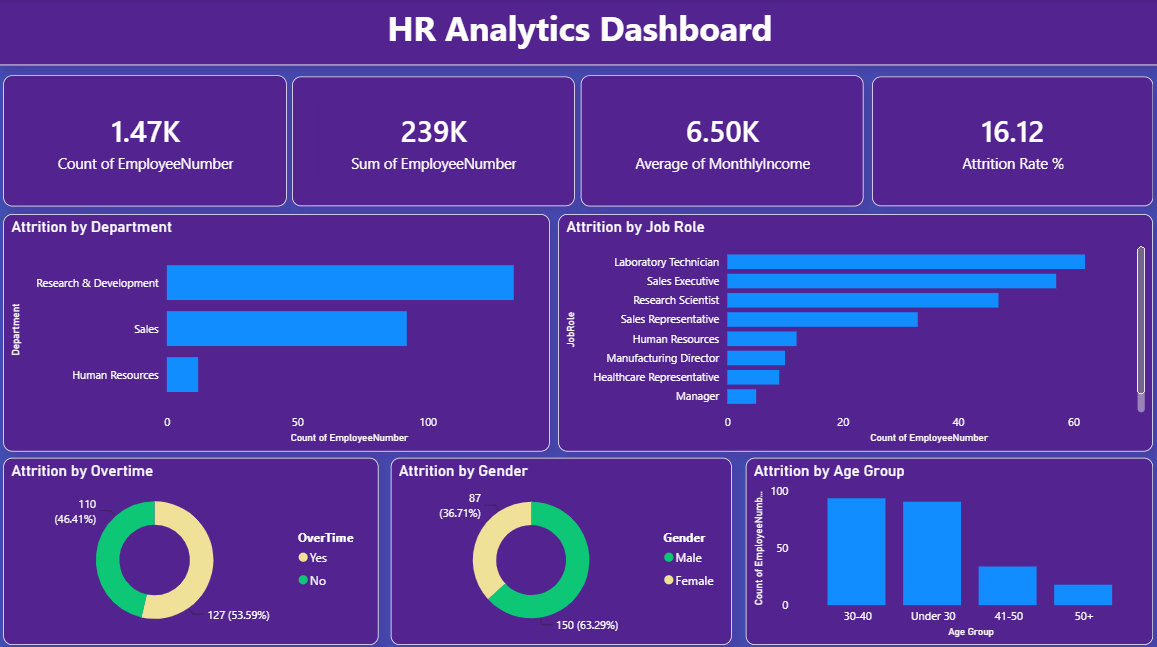

This screenshot's page, from the dashboard's own definition file:
{"tool":"powerbi","page":{"name":"Page 1","canvas":[1280,720],"ordinal":0},"visuals":[{"type":"cardVisual","title":"Total Employees","fields":{"Data":["CountNonNull(HR_Employee_Attrition_Cleaned.EmployeeNumber)"]},"box":[6.9,83.7,311.5,144.1],"z":0},{"type":"cardVisual","fields":{"Data":["Sum(HR_Employee_Attrition_Cleaned.EmployeeNumber)"]},"box":[323.8,85.1,310.1,142.7],"z":1000},{"type":"cardVisual","fields":{"Data":["Avg(HR_Employee_Attrition_Cleaned.MonthlyIncome)"]},"box":[640.8,83.7,310.1,144.1],"z":2000},{"type":"cardVisual","fields":{"Data":["HR_Employee_Attrition_Cleaned.Attrition Rate %"]},"box":[960.6,85.1,308.7,142.7],"z":3000},{"type":"clusteredBarChart","title":"Attrition by Department","fields":{"Category":["HR_Employee_Attrition_Cleaned.Department"],"Y":["CountNonNull(HR_Employee_Attrition_Cleaned.EmployeeNumber)"]},"box":[6.9,236,599.7,260.7],"z":3001},{"type":"clusteredBarChart","title":"Attrition by Job Role","fields":{"Category":["HR_Employee_Attrition_Cleaned.JobRole"],"Y":["CountNonNull(HR_Employee_Attrition_Cleaned.EmployeeNumber)"]},"box":[616.1,236,653.2,260.7],"z":3002},{"type":"donutChart","title":"Attrition by Overtime","fields":{"Category":["HR_Employee_Attrition_Cleaned.OverTime"],"Y":["CountNonNull(HR_Employee_Attrition_Cleaned.EmployeeNumber)"]},"box":[6.9,503.6,411.7,205.8],"z":3003},{"type":"clusteredColumnChart","title":"Attrition by Age Group","fields":{"Category":["HR_Employee_Attrition_Cleaned.Age Group"],"Y":["CountNonNull(HR_Employee_Attrition_Cleaned.EmployeeNumber)"]},"box":[822,503.6,447.3,205.8],"z":3004},{"type":"donutChart","title":"Attrition by Gender","fields":{"Category":["HR_Employee_Attrition_Cleaned.Gender"],"Y":["CountNonNull(HR_Employee_Attrition_Cleaned.EmployeeNumber)"]},"box":[432.2,503.6,374.6,205.8],"z":3005},{"type":"textbox","box":[0,0,1280.3,72.7],"z":3006}]}

Visuals, with their boxes in screenshot pixels (x1, y1, x2, y2), scaled from the page's 1280x720 canvas onto the 1157x647 screenshot:
"Total Employees" cardVisual: 6,75,288,205
cardVisual - Sum(HR_Employee_Attrition_Cleaned.EmployeeNumber): 293,76,573,205
cardVisual - Avg(HR_Employee_Attrition_Cleaned.MonthlyIncome): 579,75,860,205
cardVisual - HR_Employee_Attrition_Cleaned.Attrition Rate %: 868,76,1147,205
"Attrition by Department" clusteredBarChart: 6,212,548,446
"Attrition by Job Role" clusteredBarChart: 557,212,1147,446
"Attrition by Overtime" donutChart: 6,453,378,637
"Attrition by Age Group" clusteredColumnChart: 743,453,1147,637
"Attrition by Gender" donutChart: 391,453,729,637
textbox: 0,0,1156,65
